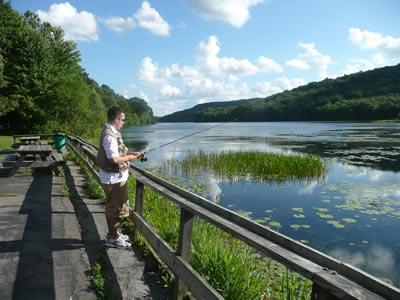person: (98, 107, 146, 248)
